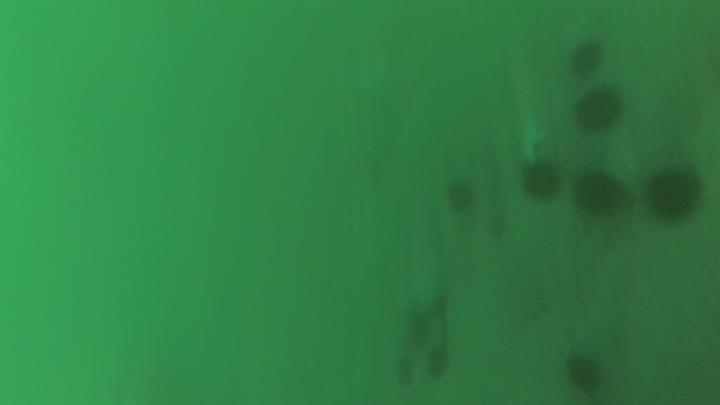echinus: (644, 158, 704, 227), (566, 87, 631, 141), (570, 162, 627, 221), (562, 41, 613, 79), (565, 352, 607, 398), (520, 160, 564, 202), (443, 178, 481, 218)
starfish: (515, 116, 550, 161)
